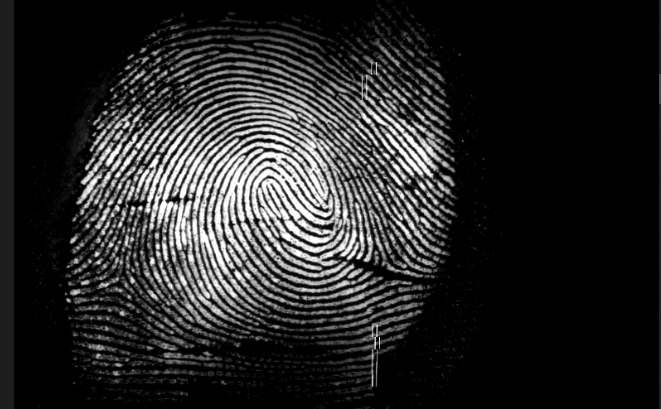deltas: (353, 238, 418, 292), (91, 249, 149, 301)
nucleo: (250, 161, 304, 215)
